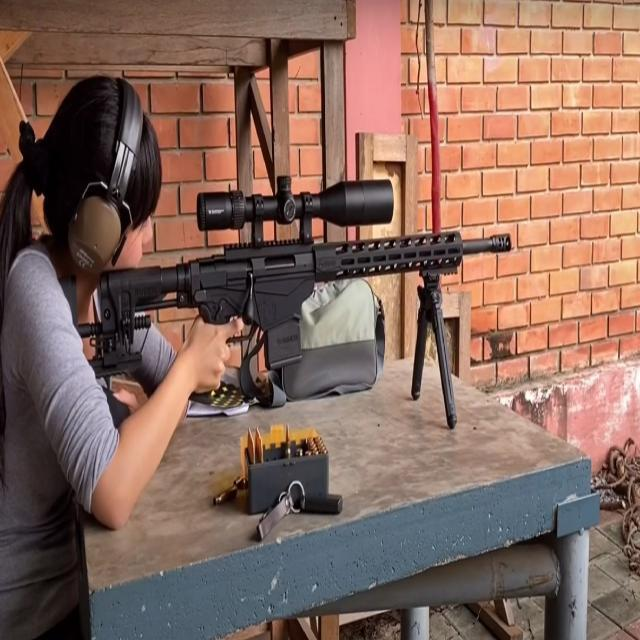rifle: (70, 170, 516, 442)
